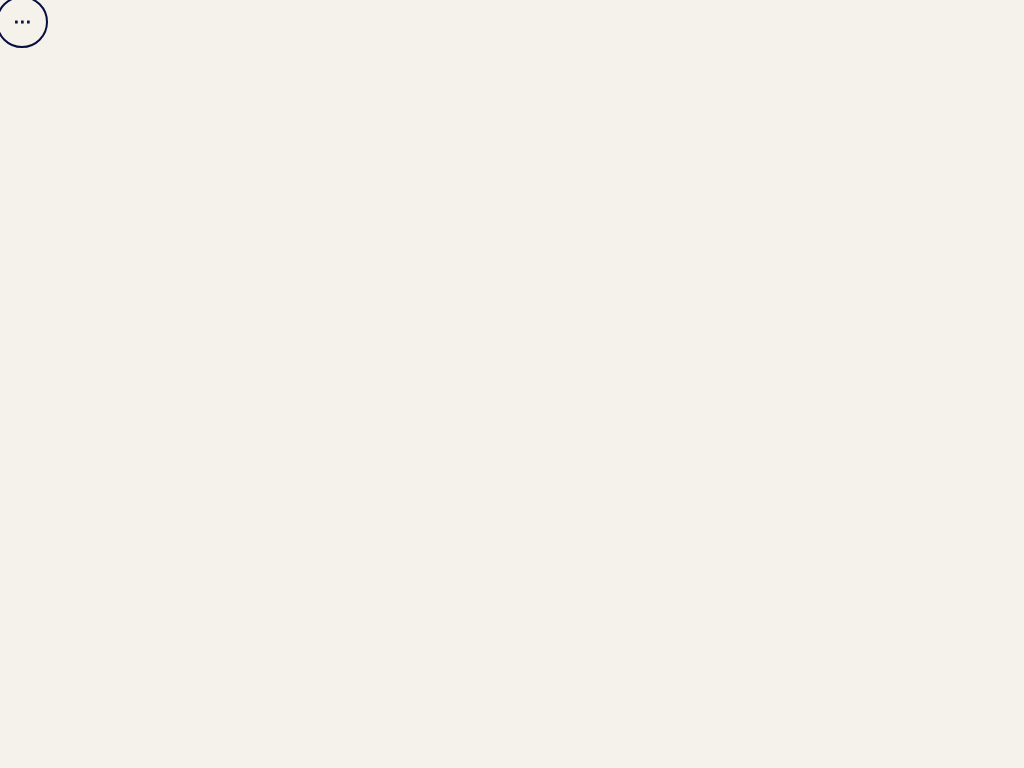
it: suppression d'une conversation › affiche le refus sale_in_progress
This screenshot has width=1024, height=768.
Press Enter in the button named "Plus d'actions pour la conversation avec Léa", box top-left (0, 0), bottom-right (44, 44)
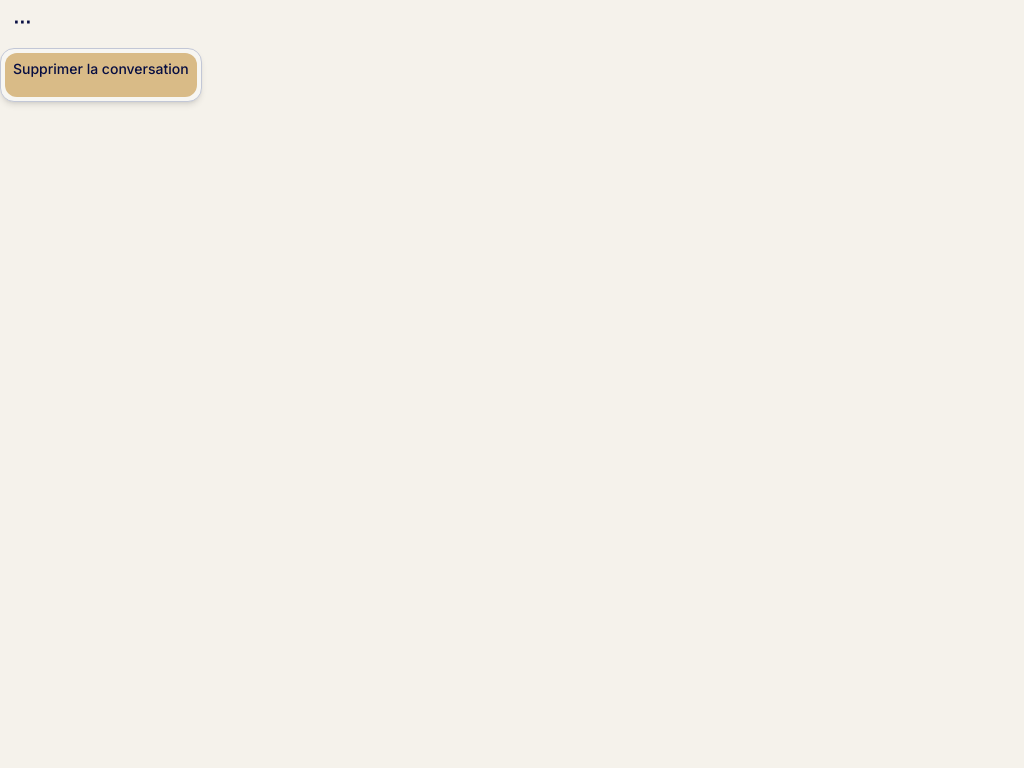
Click the menu item "Supprimer la conversation".
click(101, 75)  # box top-left (5, 53), bottom-right (197, 97)
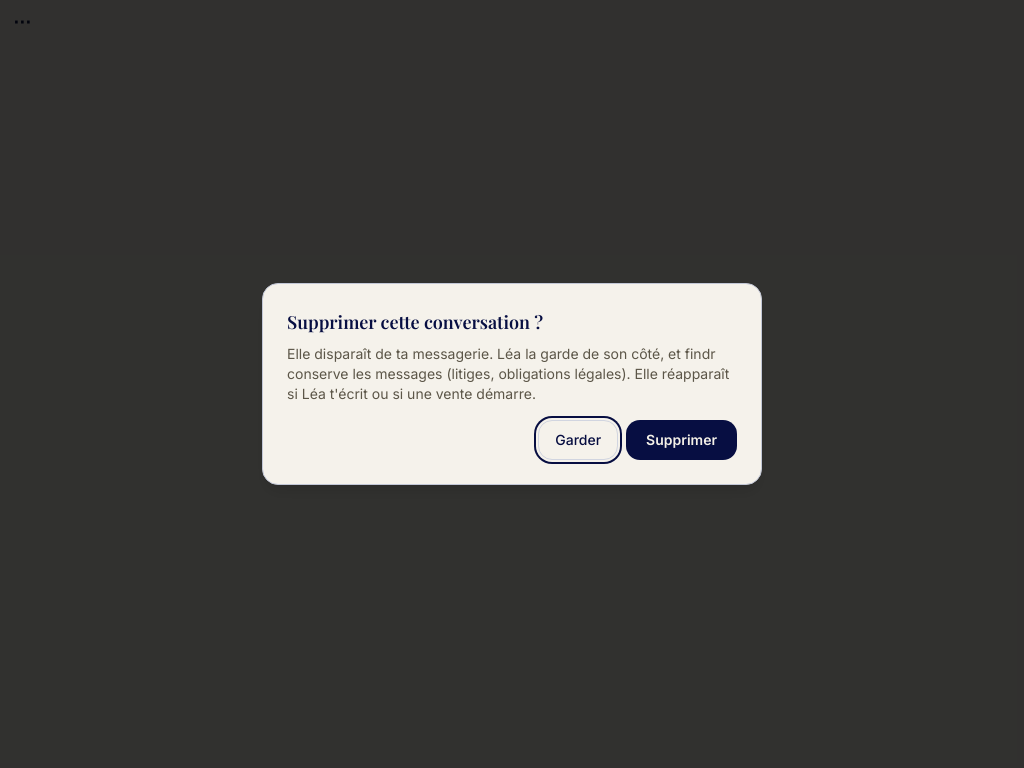
Click the button "Supprimer".
click(682, 440)  # box top-left (626, 420), bottom-right (737, 460)
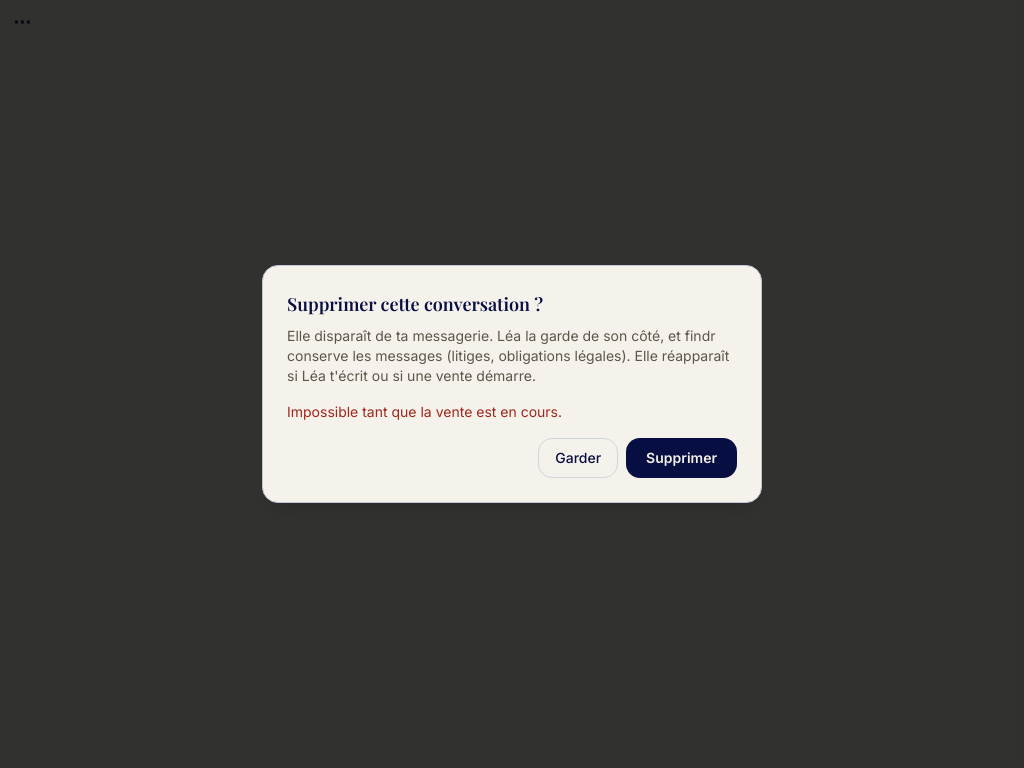
Expected: the message reads "Impossible tant que la vente est en cours.", top-left (287, 403), bottom-right (562, 420)
